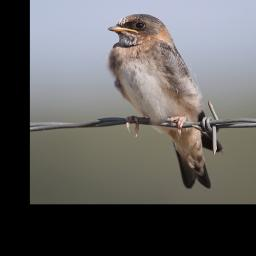Swallow: (105, 11, 224, 190)
